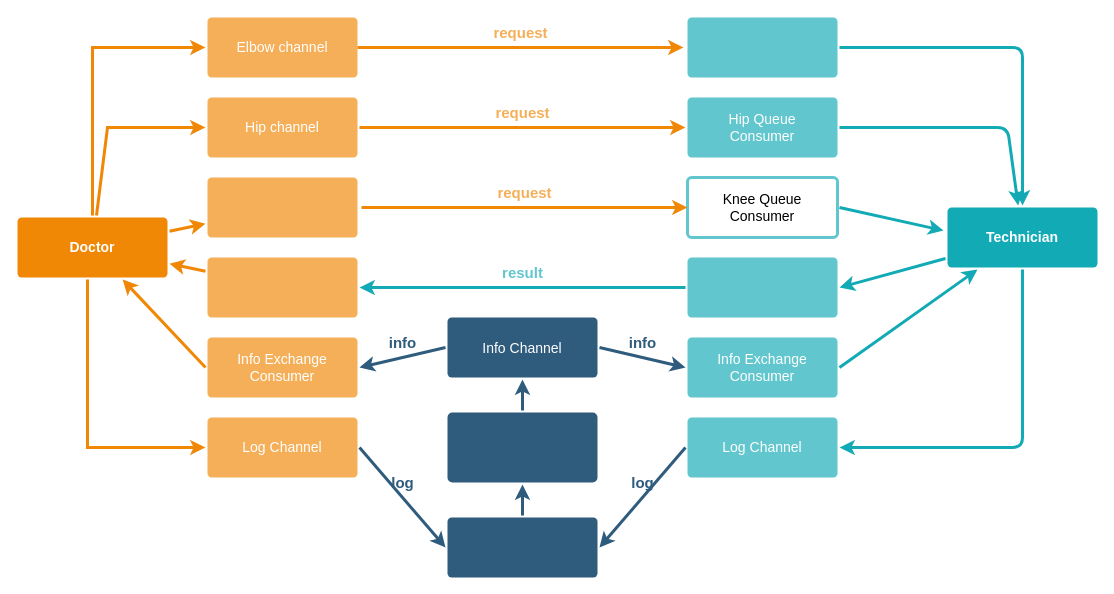
This 1114x594 diagram has some shape labels left out. The shapes that lost their labels are listed below. From the top down, each one's centre as x and y in pixels, then its label:
At [762,47]: "Elbow Queue Consumer".
At [282,207]: "Knee channel".
At [282,287]: "<doctor id> Consumer".
At [762,287]: "Reply Channel".
At [522,447]: "Admin".
At [522,547]: "Log Exchange Consumer".
